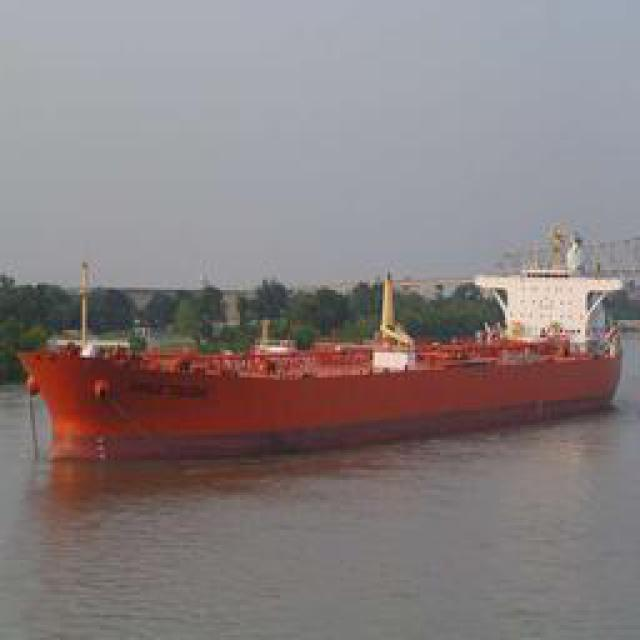Ship: (16, 291, 629, 464)
